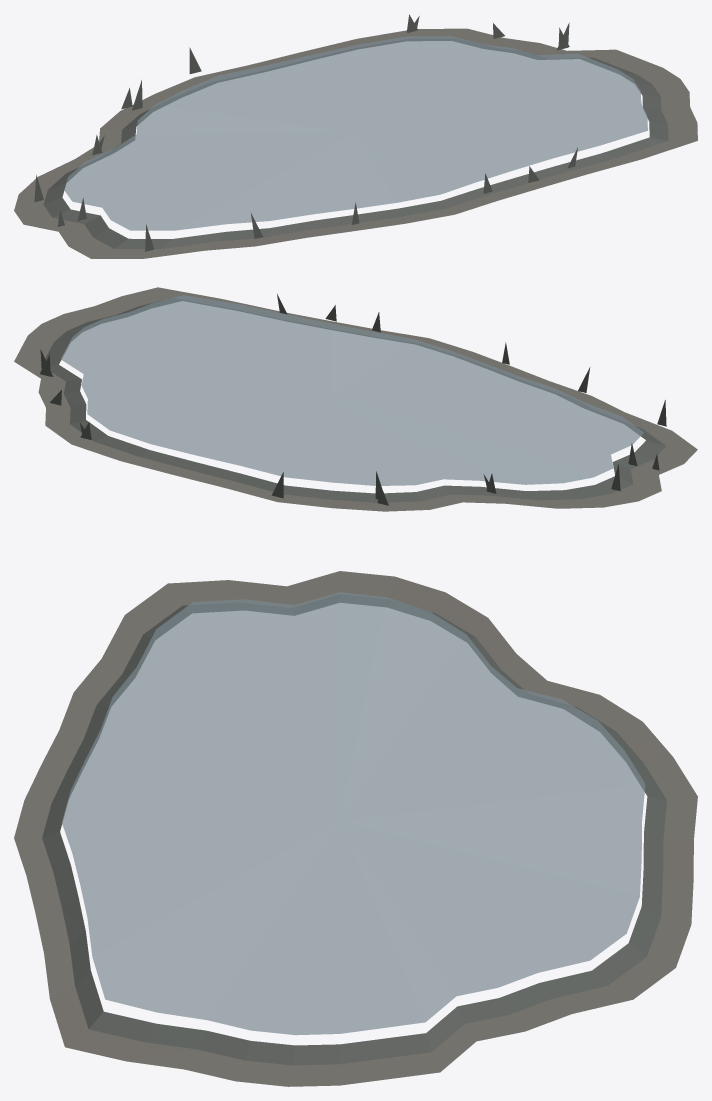
File: r6b2h-kaluza-placowa-140.glb
3 renders of one model, top to bottom at view 1: azimuth 30°, elevation 25°; view 2: azimuth 150°, elevation 25°; view 3: azimuth 270°, elevation 25°, orthographic. The views are drawn at different scales.
Parts seen in each view (by area): view 1: PrawkoWater.actual-surface, Sediment feathered to surrounding stone, Wetted meniscus rim, R6b2h micro stems; view 2: PrawkoWater.actual-surface, Sediment feathered to surrounding stone, Wetted meniscus rim, R6b2h micro stems; view 3: PrawkoWater.actual-surface, Sediment feathered to surrounding stone, Wetted meniscus rim.
Boxes of the visible parts, x1=… form: PrawkoWater.actual-surface: x1=64, y1=36, x2=647, y2=230; Sediment feathered to surrounding stone: x1=14, y1=28, x2=697, y2=258; Wetted meniscus rim: x1=43, y1=39, x2=668, y2=248; R6b2h micro stems: x1=34, y1=14, x2=577, y2=251; PrawkoWater.actual-surface: x1=61, y1=295, x2=643, y2=485; Sediment feathered to surrounding stone: x1=14, y1=287, x2=697, y2=511; Wetted meniscus rim: x1=45, y1=298, x2=666, y2=502; R6b2h micro stems: x1=40, y1=294, x2=666, y2=505; PrawkoWater.actual-surface: x1=62, y1=592, x2=645, y2=1035; Sediment feathered to surrounding stone: x1=14, y1=571, x2=697, y2=1086; Wetted meniscus rim: x1=42, y1=594, x2=666, y2=1065.
Size of the model in its own units: 1.42 by 0.0713 by 0.7958.
